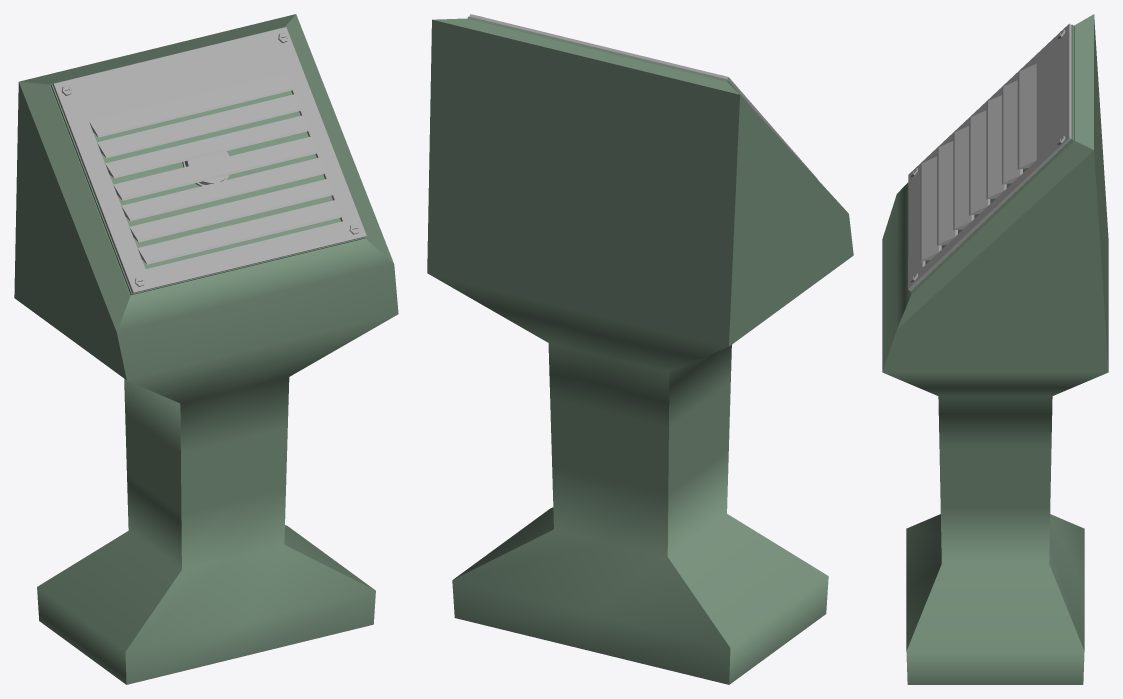
Rendered from powerPanelSideBox.fbx.
The picture shows the model from 3 angles, left to right: view 1: azimuth 30°, elevation 25°; view 2: azimuth 150°, elevation 25°; view 3: azimuth 270°, elevation 25°; orthographic projection. The views are drawn at different scales.
Visible parts, largest first — view 1: power_grid, panel; view 2: power_grid, panel; view 3: power_grid, panel.
Boxes of the visible parts, bbox=[...] form: power_grid: bbox=[14, 14, 398, 684]; panel: bbox=[52, 27, 366, 293]; power_grid: bbox=[427, 16, 853, 684]; panel: bbox=[469, 14, 817, 178]; power_grid: bbox=[882, 14, 1108, 684]; panel: bbox=[908, 23, 1071, 291].
Size of the model in its own units: 4.81 by 8.96 by 3.38.
